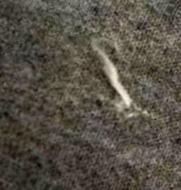snag: (92, 41, 140, 118)
